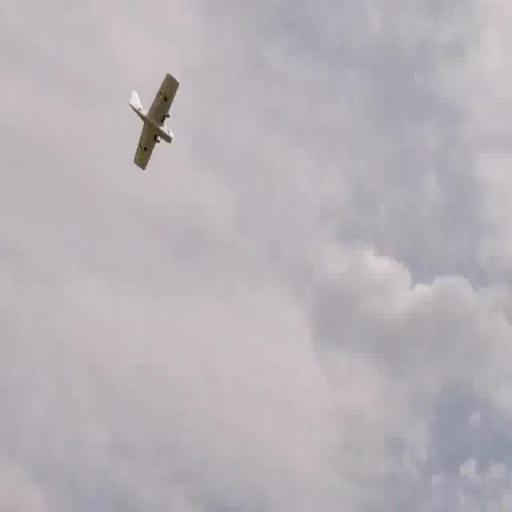uav: (125, 73, 183, 172)
